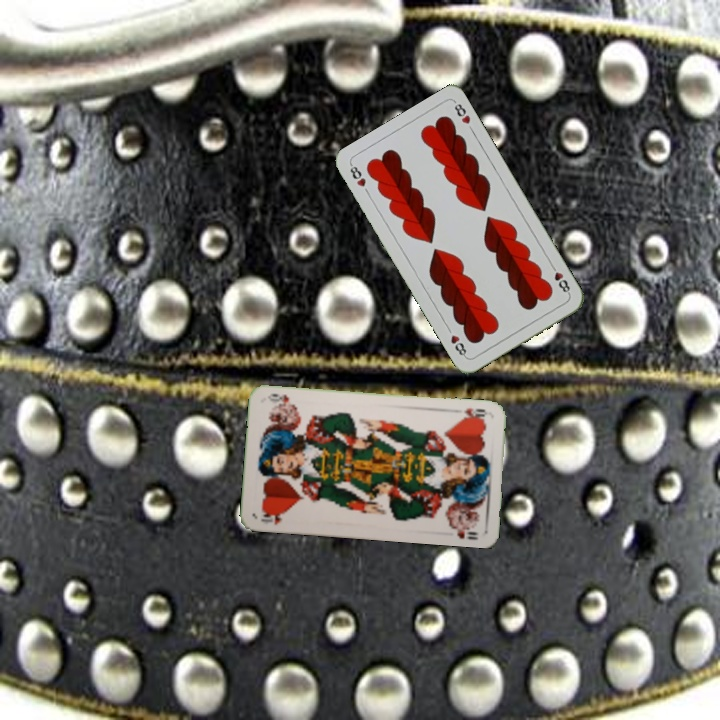H8: (547, 260, 573, 297), (346, 160, 368, 190)
HO: (257, 507, 287, 528), (459, 404, 492, 422)
